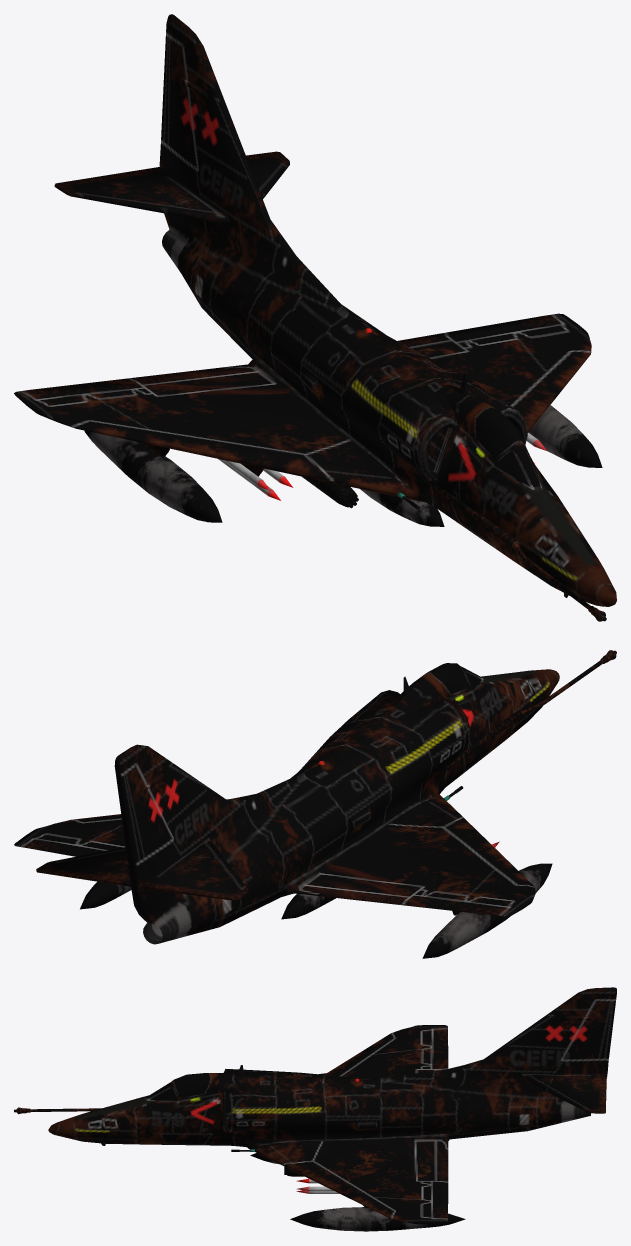
3 views of the same model, one above another, from view 1: azimuth 30°, elevation 25°; view 2: azimuth 150°, elevation 25°; view 3: azimuth 270°, elevation 25° (orthographic). The views are drawn at different scales.
Visible parts, largest first — view 1: SkyHawk; view 2: SkyHawk; view 3: SkyHawk.
Part boxes in pixels (<box>): SkyHawk: <box>14,14,616,621</box>; SkyHawk: <box>14,650,616,958</box>; SkyHawk: <box>14,987,616,1231</box>.
Size of the model in its own units: 6.3 by 3.47 by 9.78.
Materials: 9 (9 with a texture image).
